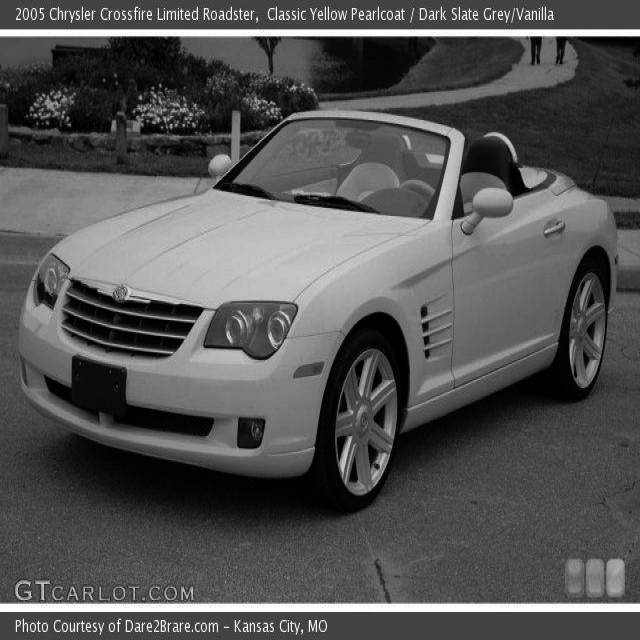car: (17, 107, 619, 513)
